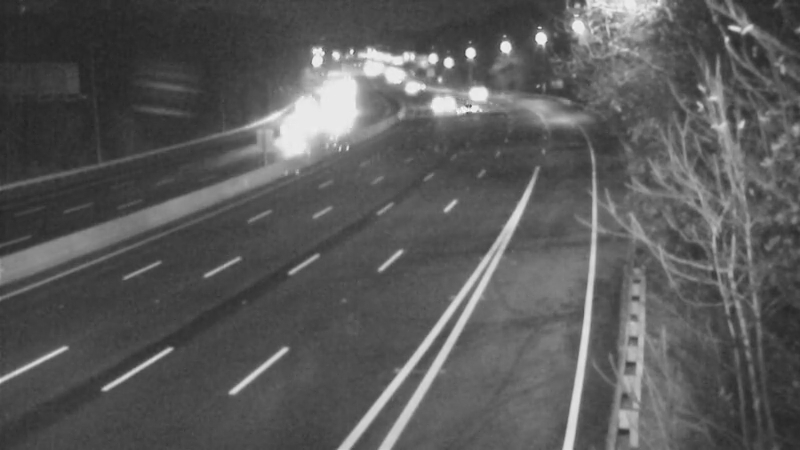vehicle: (443, 66, 493, 116), (414, 71, 464, 121), (442, 90, 492, 140), (273, 111, 323, 161), (283, 77, 333, 127)
